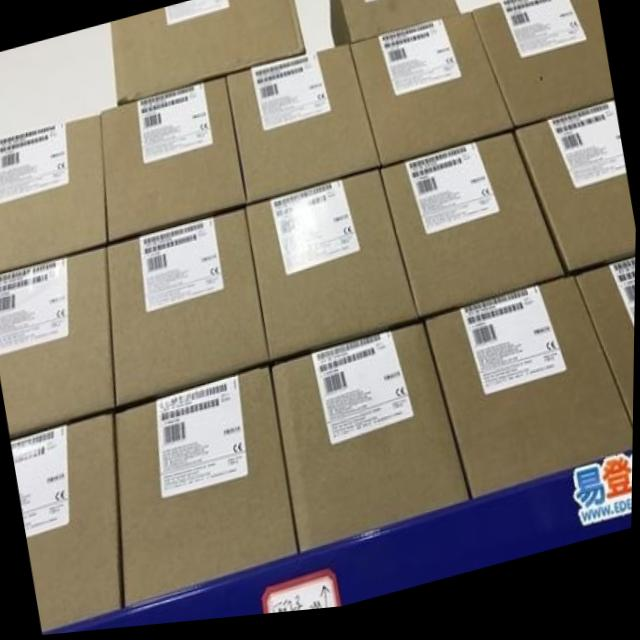box: (423, 287, 634, 509), (271, 332, 470, 558), (115, 371, 299, 609), (381, 141, 566, 326), (106, 211, 272, 409), (246, 177, 419, 365), (349, 19, 518, 175), (226, 50, 381, 210), (11, 415, 122, 635), (101, 77, 246, 241), (0, 249, 117, 439), (511, 113, 637, 284), (110, 0, 305, 107), (472, 0, 615, 136), (0, 113, 107, 273), (574, 270, 636, 439), (329, 0, 459, 55)
